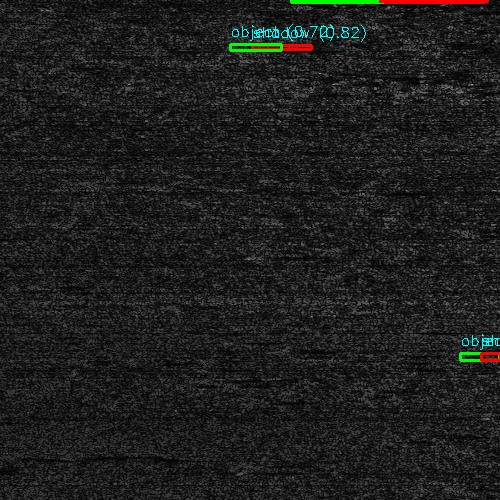rock: (285, 0, 368, 3), (224, 47, 277, 50), (468, 350, 479, 359)
shadow: (327, 0, 434, 3), (474, 350, 500, 359), (251, 47, 301, 50)
